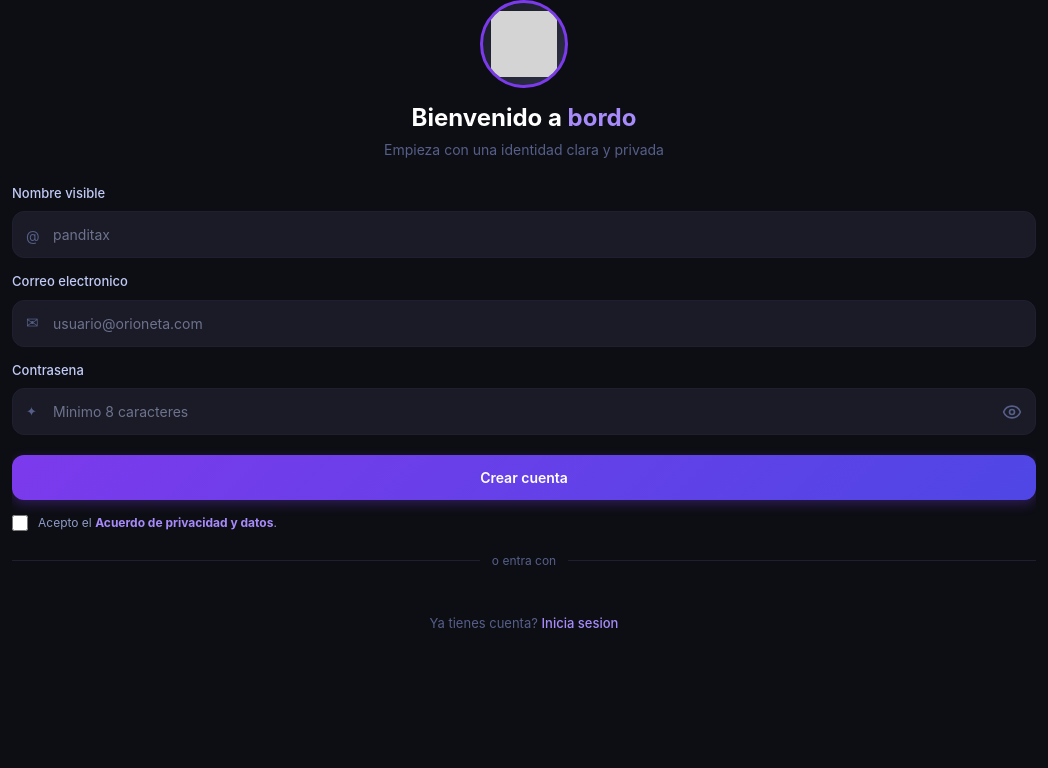
Test: RegisterPage › shows api error on registration failure
Step 1. Type "Test User" into the field with placeholder "panditax" → (524, 235), box [12, 211, 1036, 258]
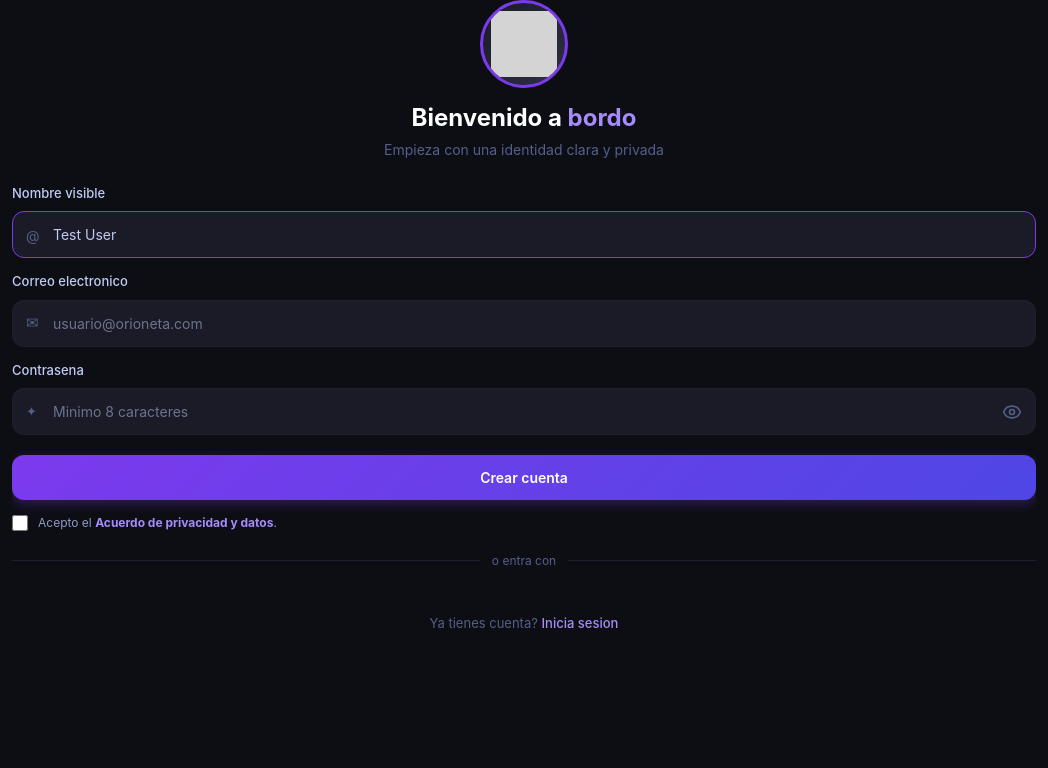
Step 2. Type "test@test.com" into the field with placeholder "usuario@orioneta.com" → (524, 323), box [12, 300, 1036, 347]
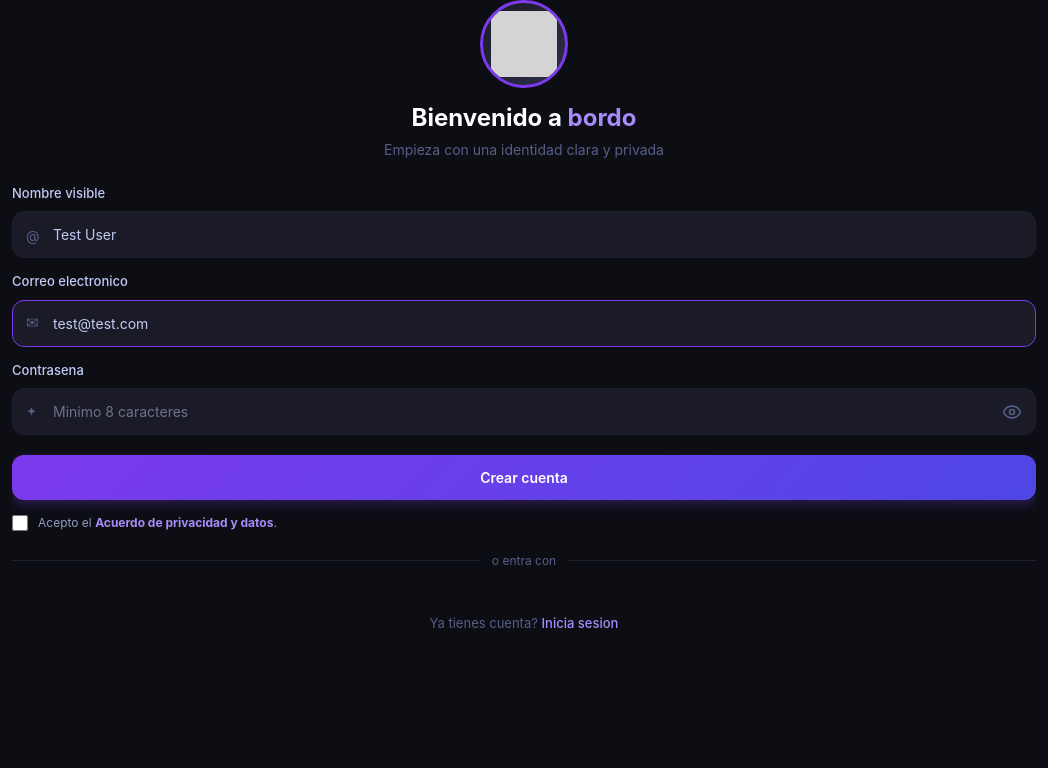
Step 3. Type "password123" into the password field with placeholder "Minimo 8 caracteres" → (524, 412), box [12, 388, 1036, 435]
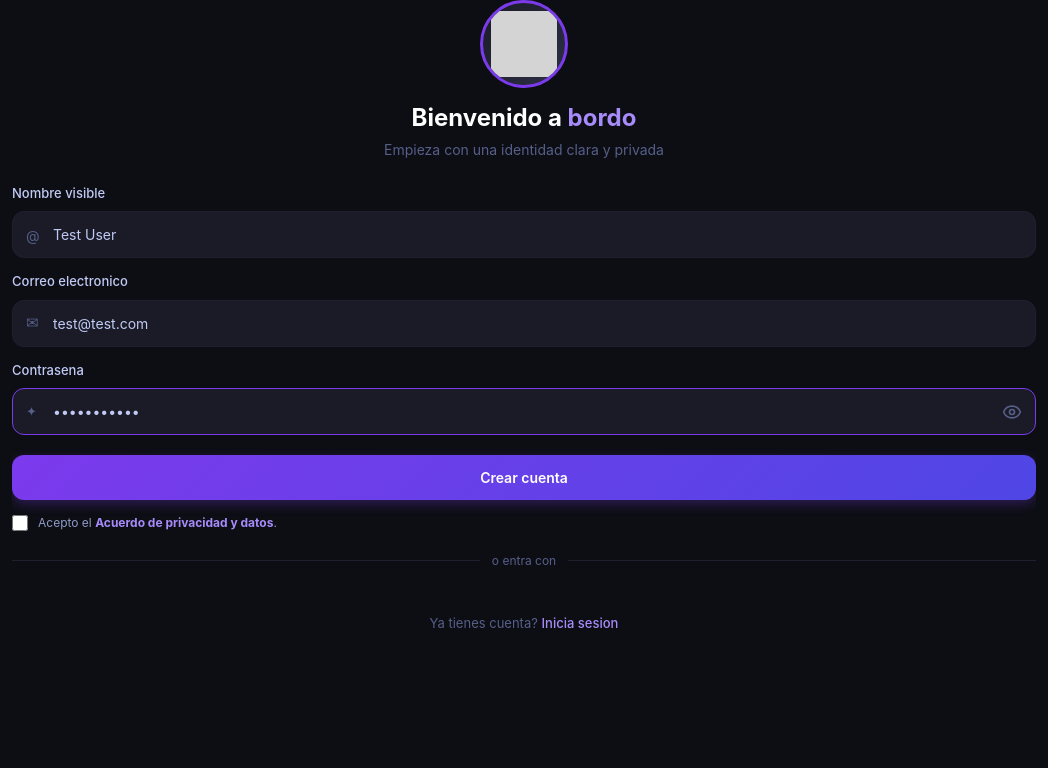
Step 4. Click the checkbox → (20, 523), box [12, 515, 28, 531]
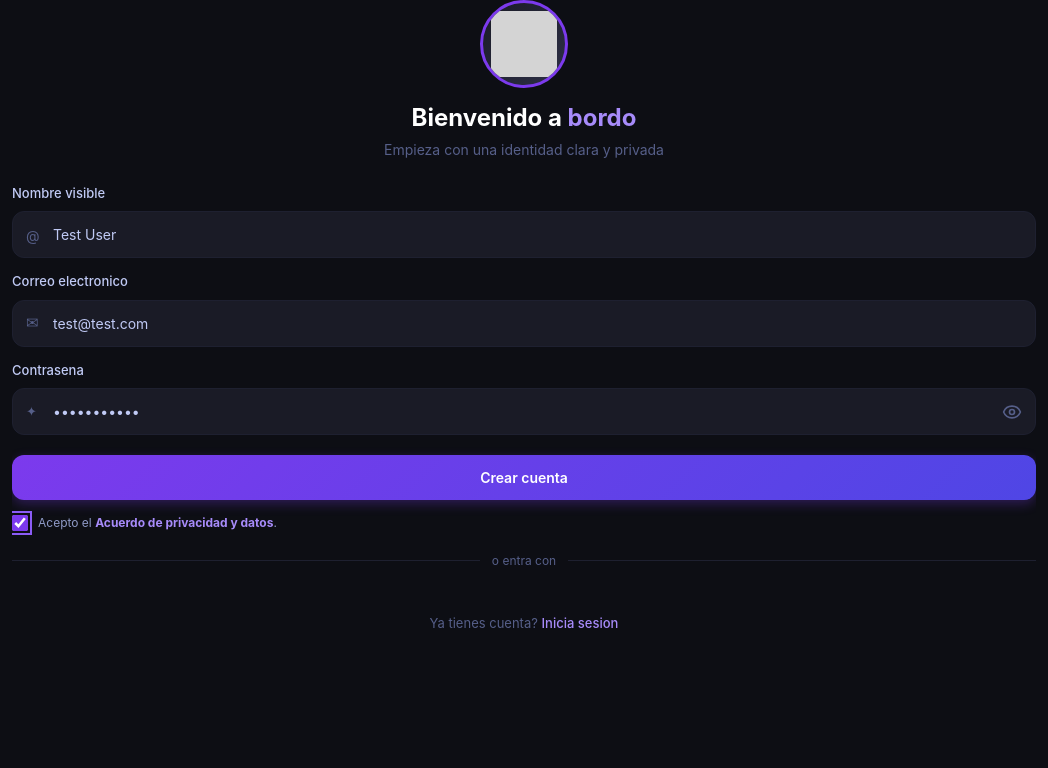
Step 5. Click the button "Crear cuenta" → (524, 478), box [12, 455, 1036, 500]
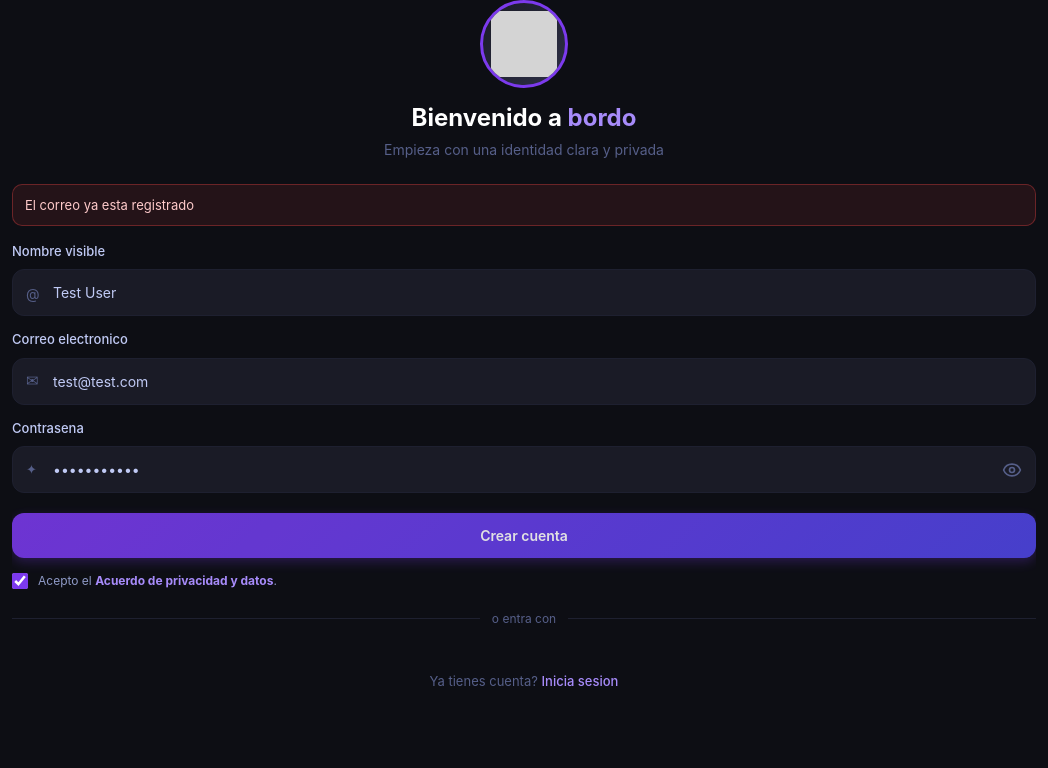
Result: the text "El correo ya esta registrado" is shown at [12, 184, 1036, 226]
